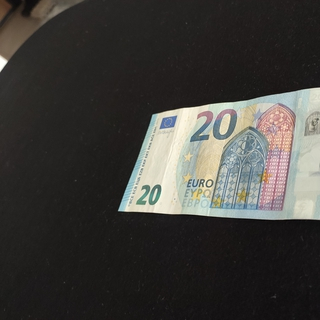20EUROFront: (117, 84, 320, 222)
